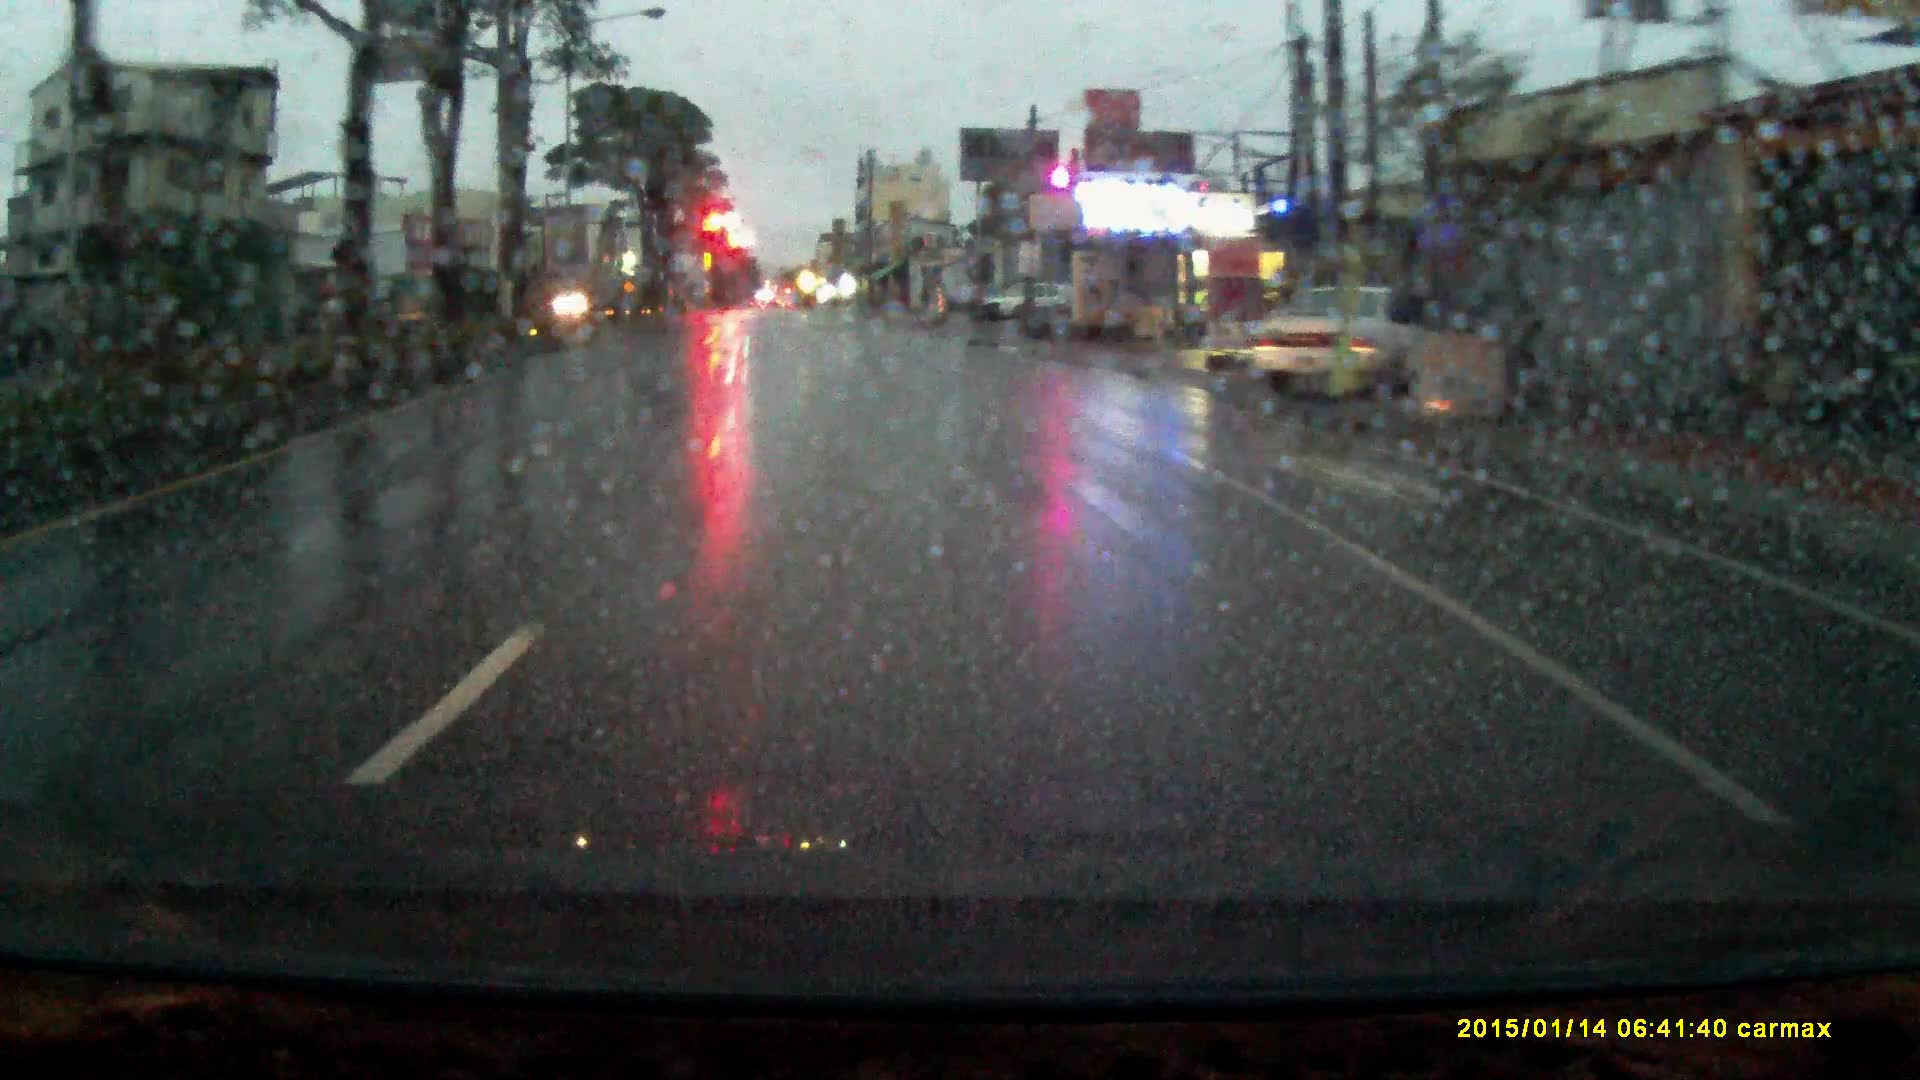vehicle: (1255, 286, 1435, 401), (982, 285, 1065, 324), (553, 290, 597, 322)
